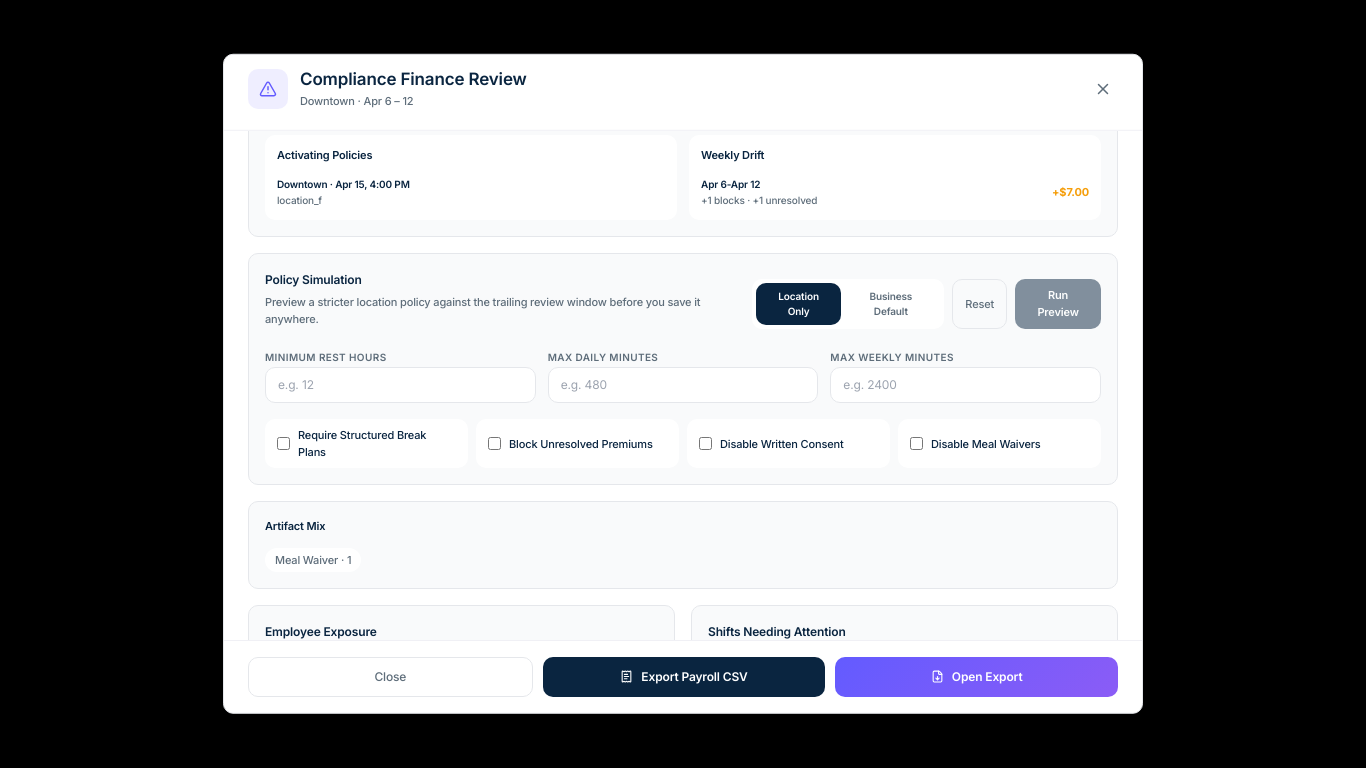
ComplianceFinanceModal › runs a compliance policy simulation from the modal
(page scrolled)
Expected: the button "Run Preview" is shown, [1015,279,1101,329]
Type "12" into the number field with placeholder "e.g. 12" at (400, 385), box [265,367,536,403]
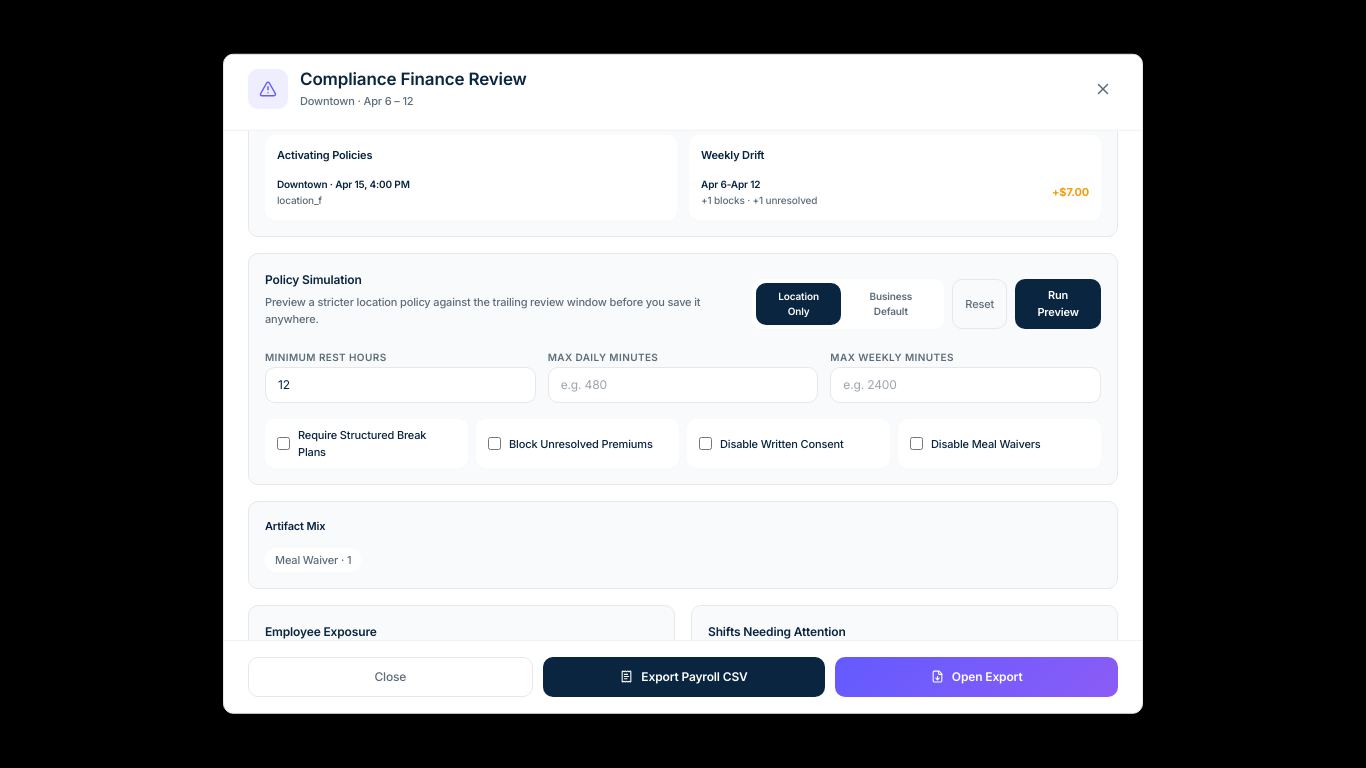
Click the checkbox labelled "Require Structured Break Plans" at (284, 444), box [277,437,290,450]
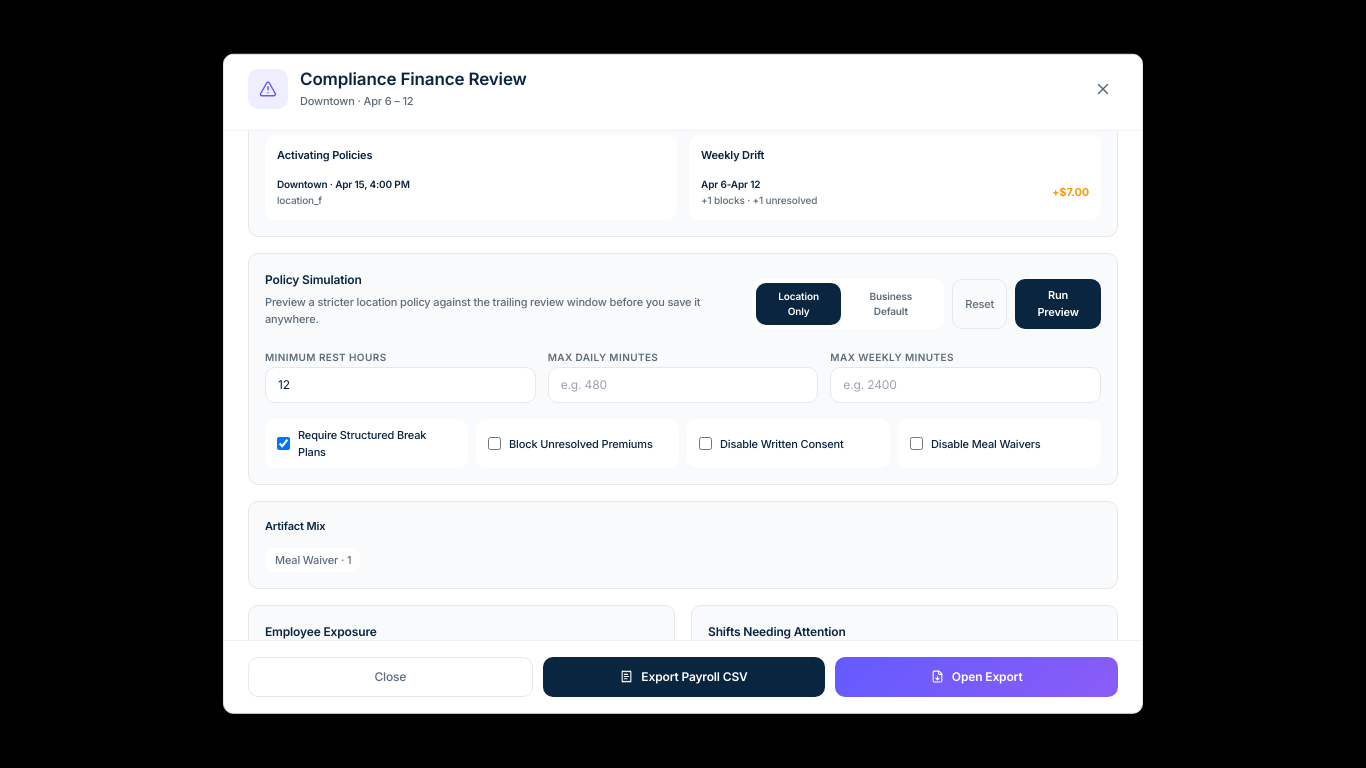
Click the button "Run Preview" at (1058, 304), box [1015,279,1101,329]
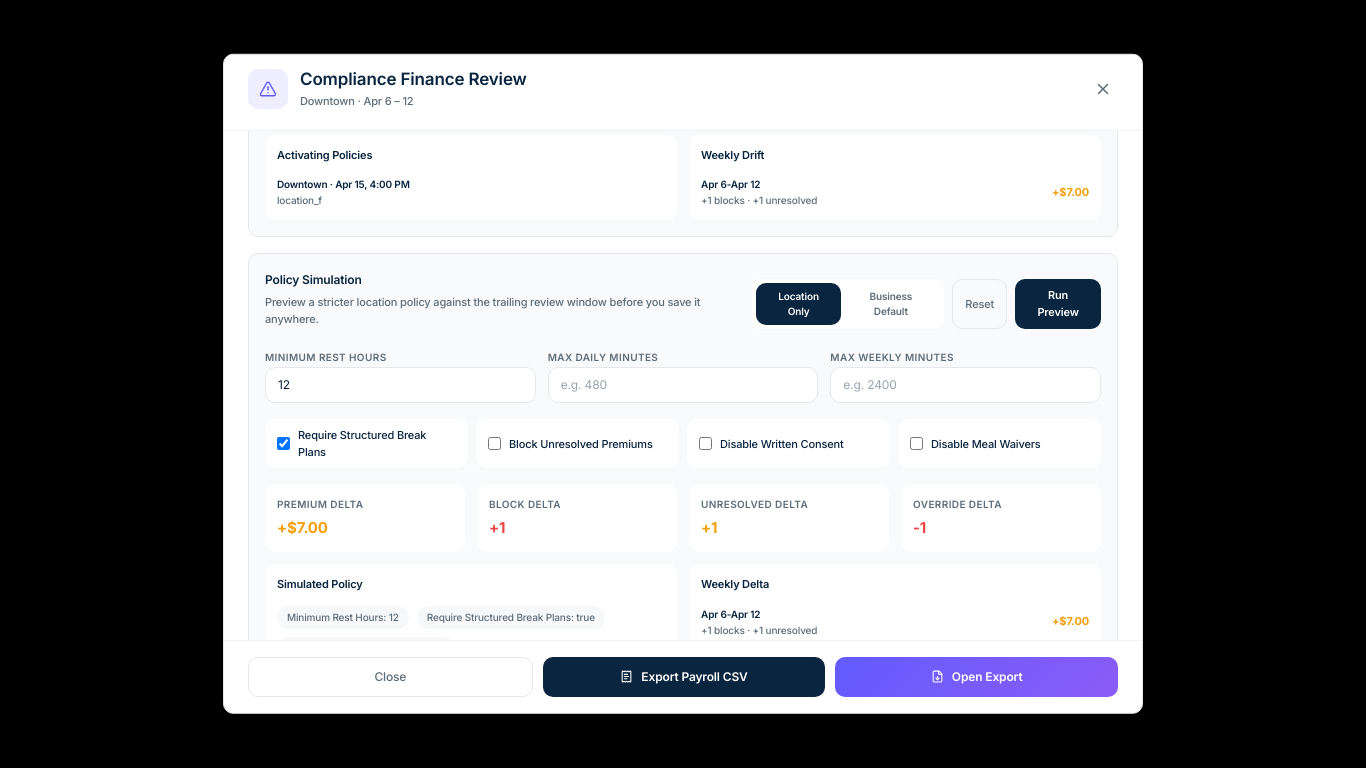
Expected: the text "+$7.00" in the row of "Downtown · Apr 15, 4:00 PM" is shown, [1052,184,1089,198]
Now the text "Simulated Policy" is shown, box [277,577,362,591]
